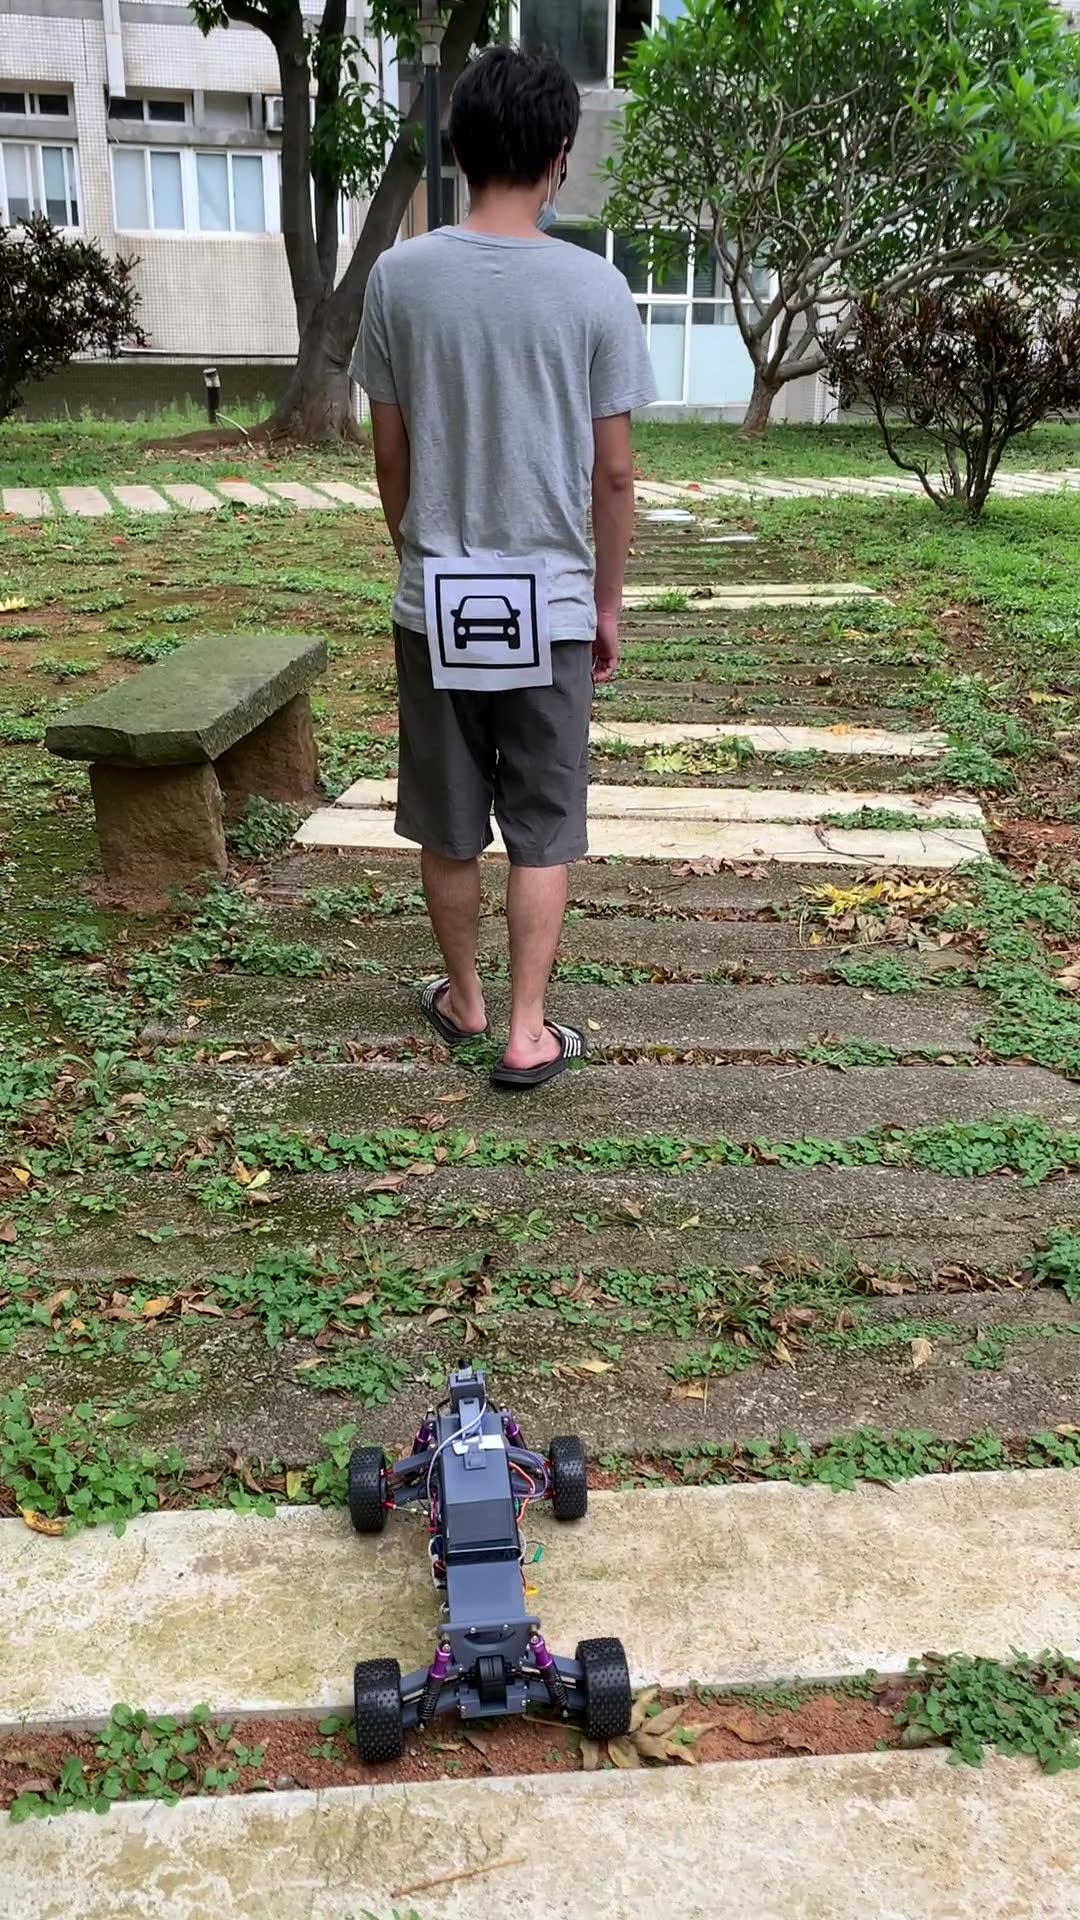car_img: (435, 572, 539, 669)
